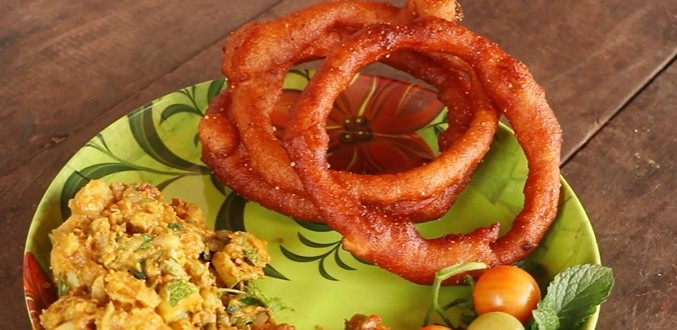sel_roti: (292, 16, 564, 282), (228, 2, 496, 187)
